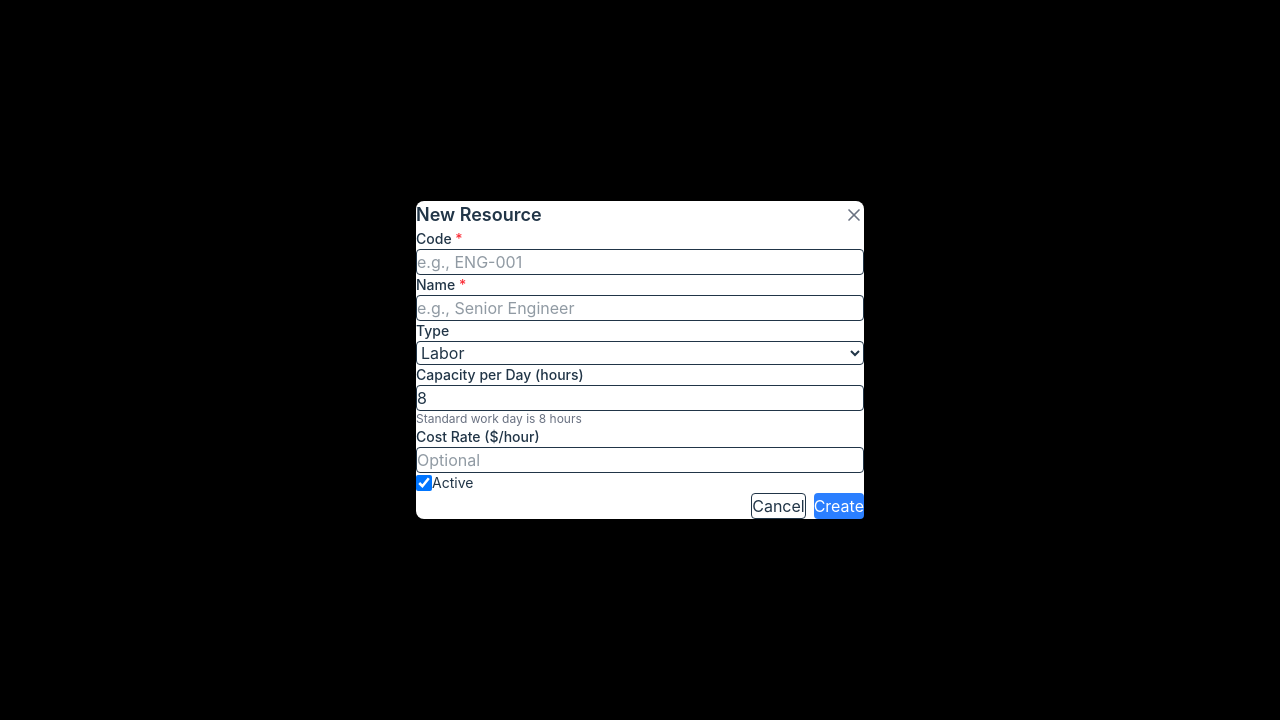
Test case: ResourceForm › submit success and error › shows success toast on successful create
Type "NEW-001" into the field with placeholder "e.g., ENG-001" at (640, 262), box [416, 249, 864, 275]
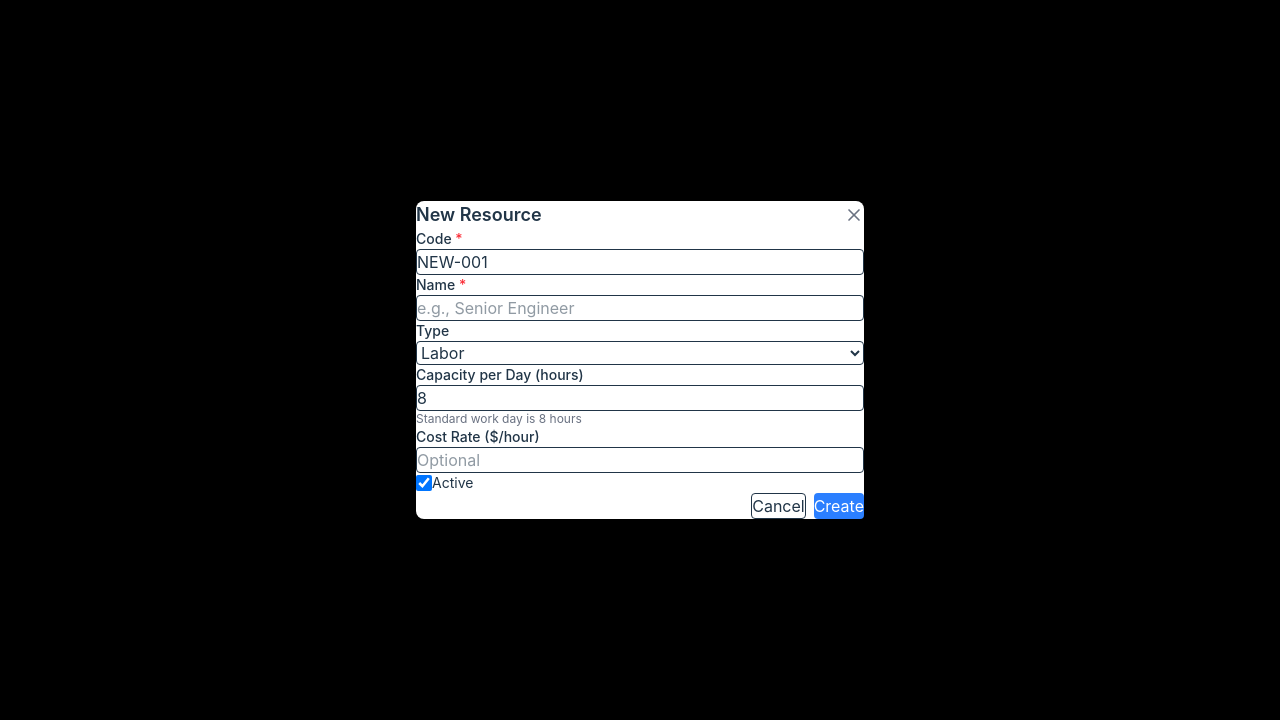
Type "New Resource" into the field with placeholder "e.g., Senior Engineer" at (640, 308), box [416, 295, 864, 321]
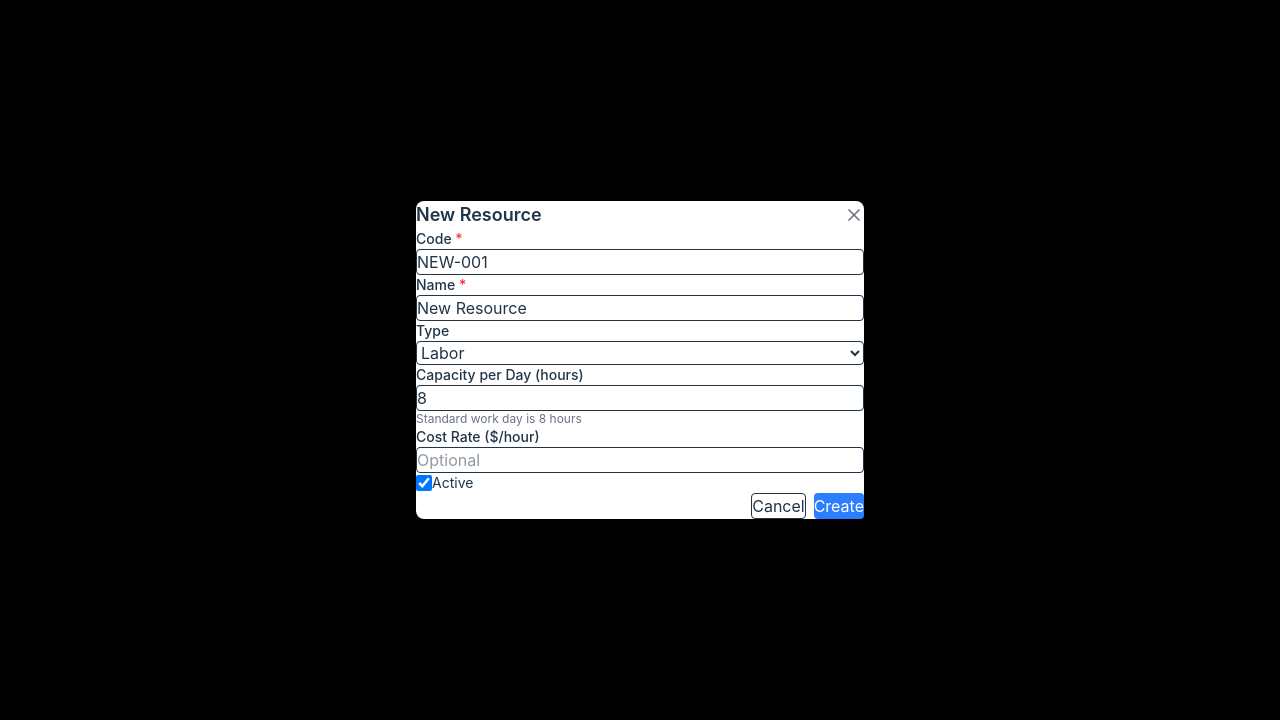
Click the button "Create" at (839, 506), box [814, 493, 864, 519]
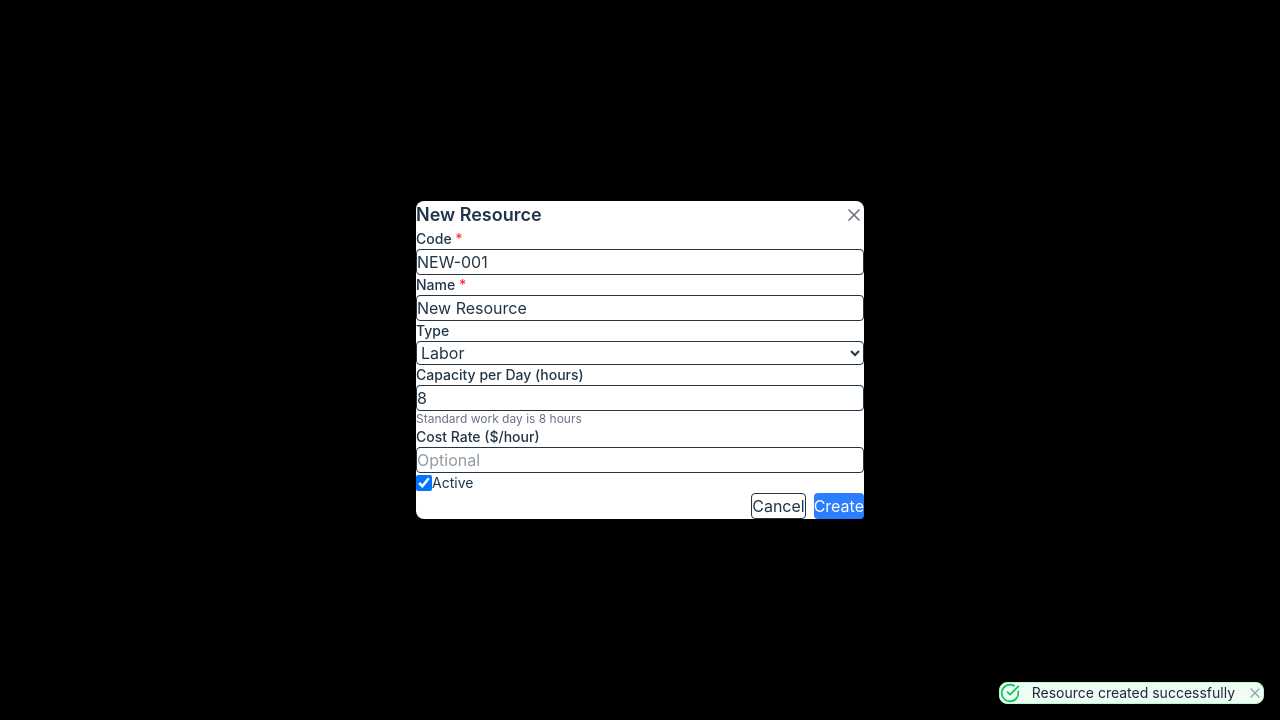
Check: the text "Resource created successfully" is shown, box [1032, 683, 1235, 703]
